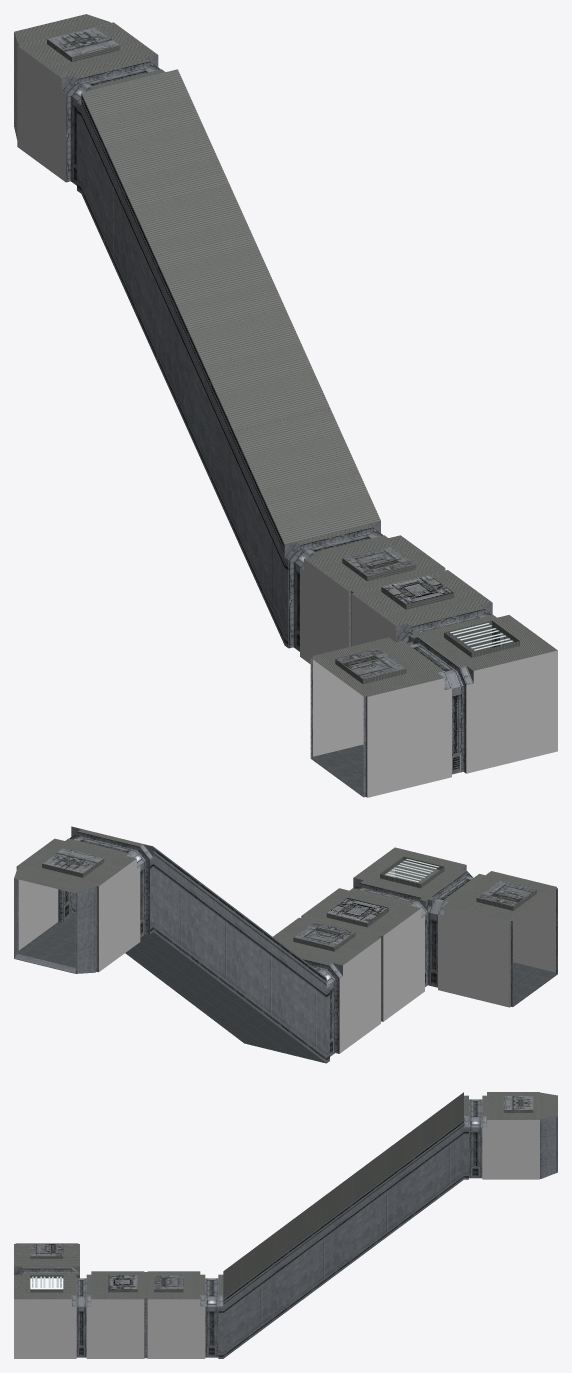
The model's file is poi_all_impl_bunker_warren_s01_r4_hall4_mesh_r4.fbx.
The picture shows the model from 3 angles, top to bottom: view 1: azimuth 30°, elevation 25°; view 2: azimuth 150°, elevation 25°; view 3: azimuth 270°, elevation 25°; orthographic projection. The views are drawn at different scales.
Parts seen in each view (by area): view 1: mesh_node; view 2: mesh_node; view 3: mesh_node.
Boxes of the visible parts, bbox=[...] form: mesh_node: bbox=[14, 14, 557, 797]; mesh_node: bbox=[14, 826, 557, 1063]; mesh_node: bbox=[14, 1092, 557, 1358].
Size of the model in its own units: 8 by 16.2 by 33.
